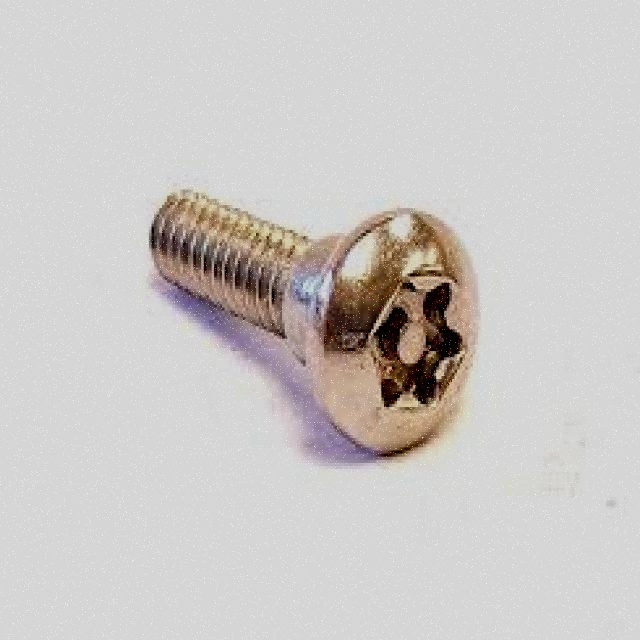torx: (310, 205, 481, 455)
